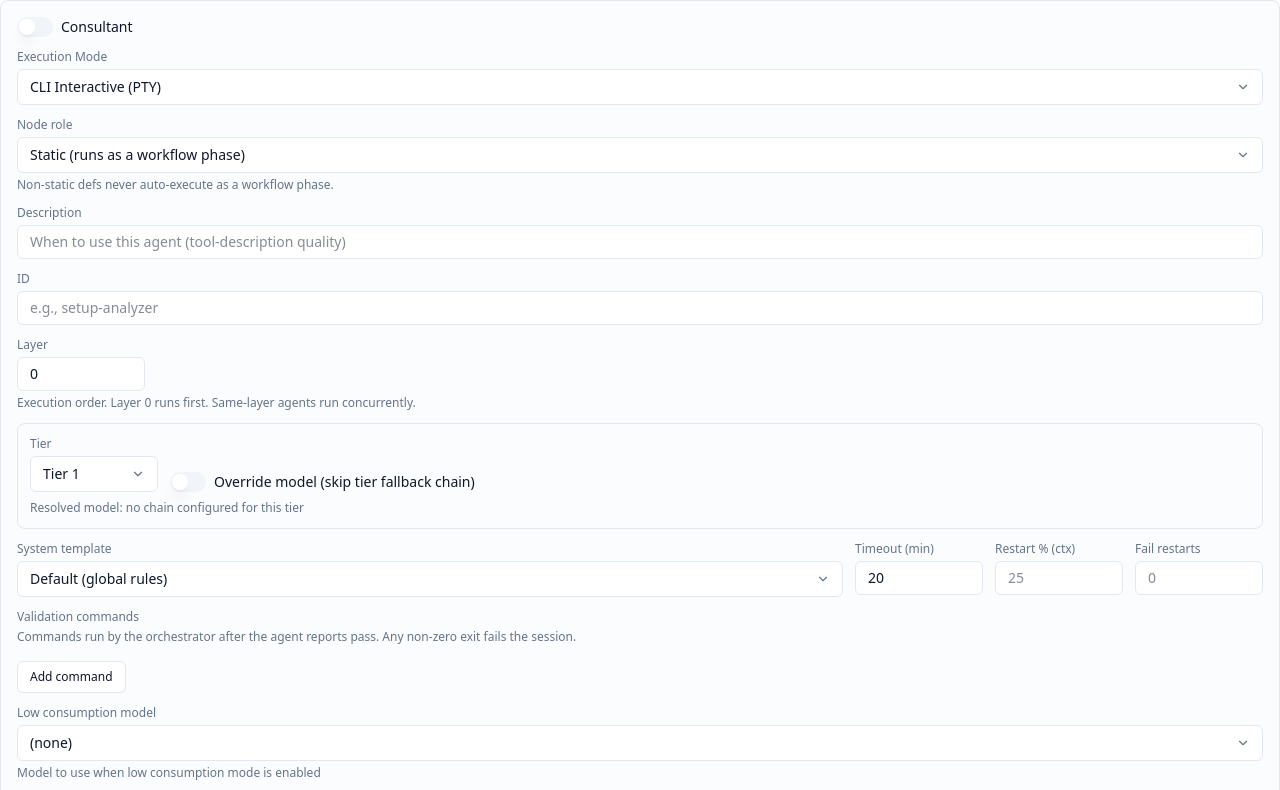
Test: AgentDefForm — consultant toggle › Layer field hidden when consultant is ON
This screenshot has width=1280, height=790.
expect the text "Layer" is shown: met, box left=17, top=336, right=48, bottom=353
Click the switch named "Consultant" next to "Consultant" at (35, 27), box left=17, top=17, right=53, bottom=37
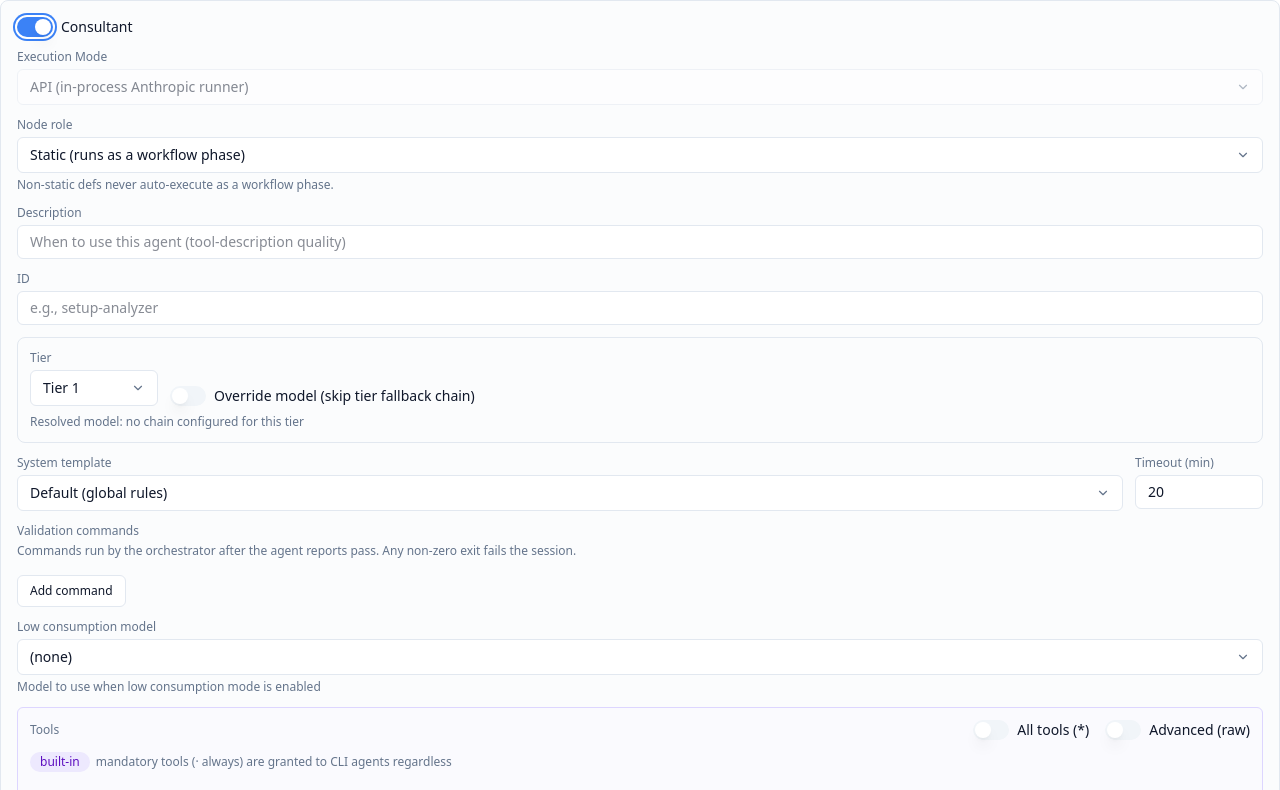
expect the text "Layer" is gone: met
